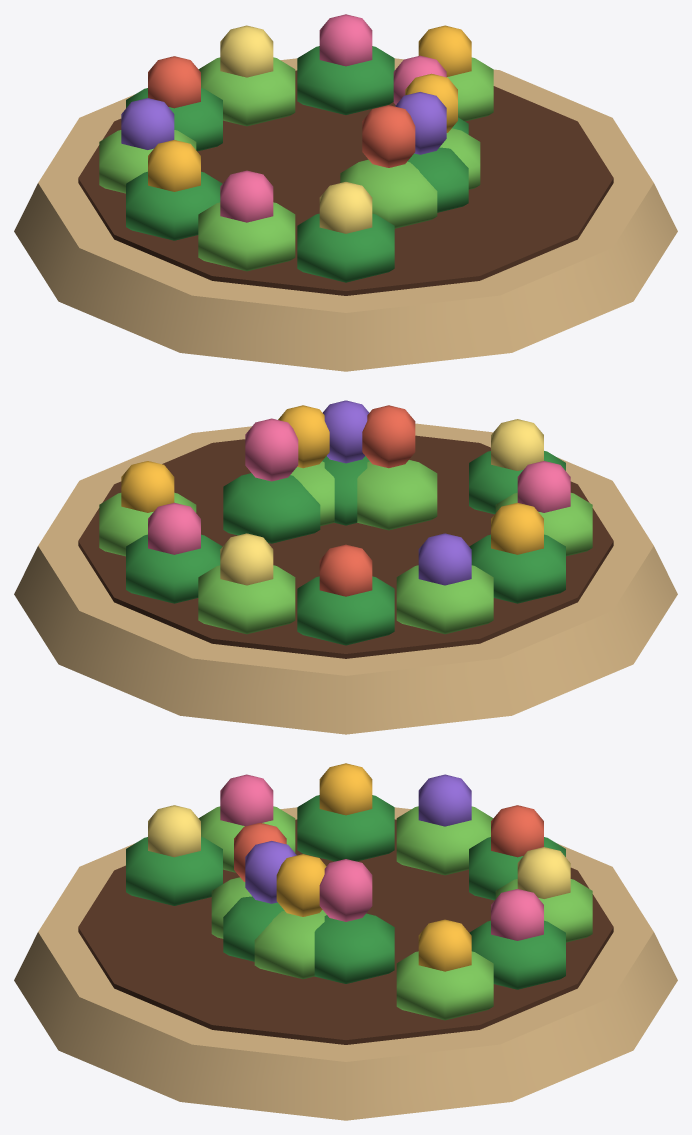
The model's file is flower-bed.glb.
The picture shows the model from 3 angles, top to bottom: view 1: azimuth 30°, elevation 25°; view 2: azimuth 150°, elevation 25°; view 3: azimuth 270°, elevation 25°; orthographic projection.
Parts seen in each view (by area): view 1: Mesh_sandStone, Mesh_darkWood, Mesh_leaf, Mesh_leafLight, Mesh_flamingo, Mesh_mango, Mesh_coral, Mesh_banana, Mesh_orchid; view 2: Mesh_sandStone, Mesh_darkWood, Mesh_leaf, Mesh_leafLight, Mesh_flamingo, Mesh_mango, Mesh_coral, Mesh_banana, Mesh_orchid; view 3: Mesh_sandStone, Mesh_darkWood, Mesh_leaf, Mesh_leafLight, Mesh_flamingo, Mesh_mango, Mesh_banana, Mesh_orchid, Mesh_coral.
Boxes of the visible parts, x1,y1,x2,y2 form: Mesh_sandStone: (14,58,677,371); Mesh_darkWood: (78,70,613,295); Mesh_leaf: (126,46,468,282); Mesh_leafLight: (99,57,493,271); Mesh_flamingo: (220,14,446,222); Mesh_mango: (148,25,471,191); Mesh_coral: (148,56,415,167); Mesh_banana: (220,25,372,233); Mesh_orchid: (121,92,446,154); Mesh_sandStone: (14,423,677,734); Mesh_darkWood: (78,435,613,658); Mesh_leaf: (126,451,565,645); Mesh_leafLight: (99,460,592,634); Mesh_flamingo: (148,418,570,554); Mesh_mango: (121,405,543,554); Mesh_coral: (319,405,415,596); Mesh_banana: (220,419,543,585); Mesh_orchid: (323,400,471,585); Mesh_sandStone: (14,807,677,1120); Mesh_darkWood: (78,819,613,1044); Mesh_leaf: (126,795,565,989); Mesh_leafLight: (198,806,592,1020); Mesh_flamingo: (220,774,543,940); Mesh_mango: (276,763,471,971); Mesh_banana: (148,805,570,898); Mesh_orchid: (245,774,471,903); Mesh_coral: (234,805,543,881).
Size of the model in its own units: 2.48 by 0.64 by 2.48.
